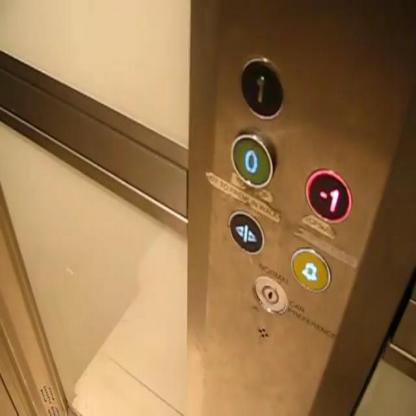-1: (303, 164, 353, 224)
0: (228, 127, 275, 189)
1: (239, 50, 284, 121)
alarm: (289, 244, 332, 294)
keyhole: (251, 271, 290, 318)
open: (227, 208, 266, 256)
